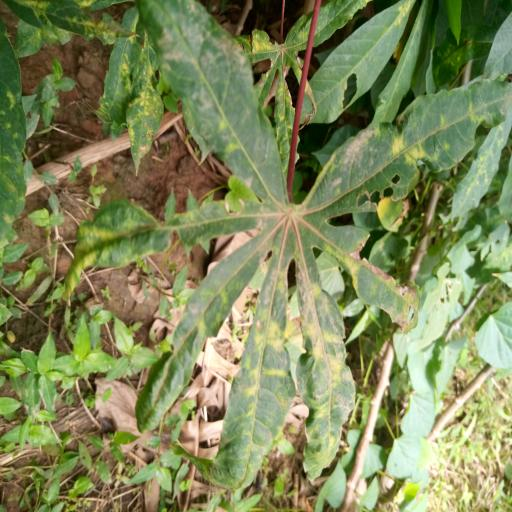Cassava_Mosaic: (70, 2, 512, 500)
